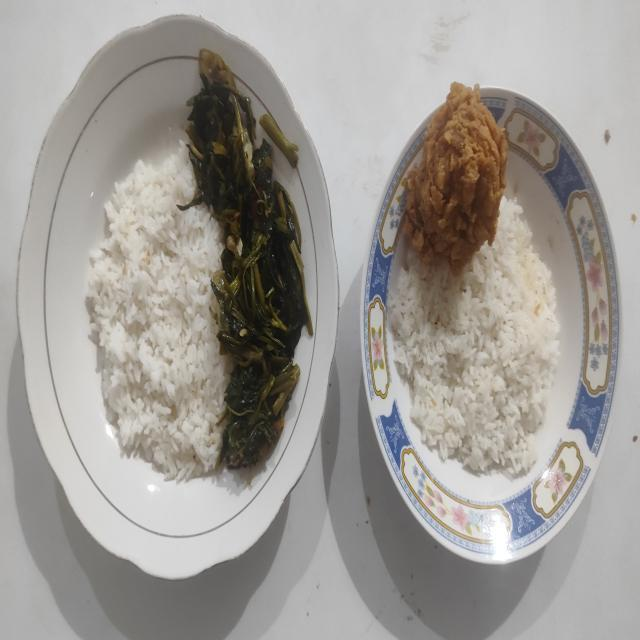nasi_putih: (86, 150, 233, 481), (388, 196, 560, 476)
tumis_kangkung: (177, 49, 313, 469)
